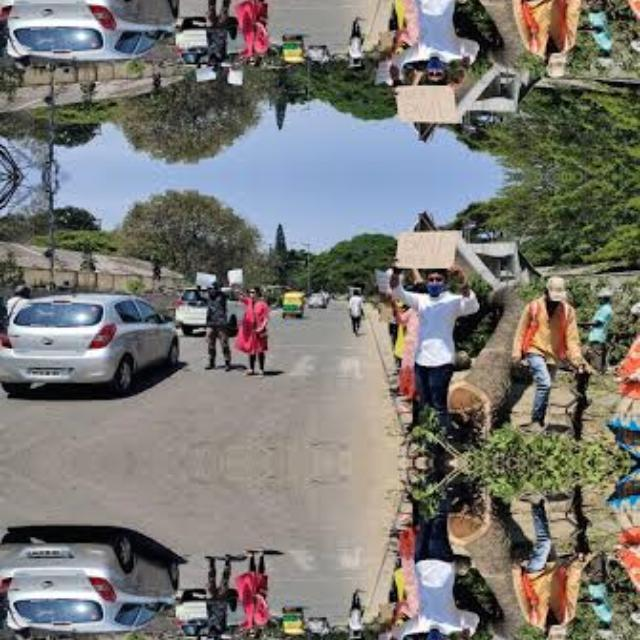person: (394, 264, 468, 424), (394, 501, 467, 640), (522, 276, 590, 412), (521, 513, 590, 640), (394, 0, 467, 87), (521, 0, 590, 76), (199, 272, 237, 370), (238, 278, 274, 374), (199, 555, 237, 640), (238, 552, 273, 640), (199, 0, 237, 80), (238, 0, 273, 73)
